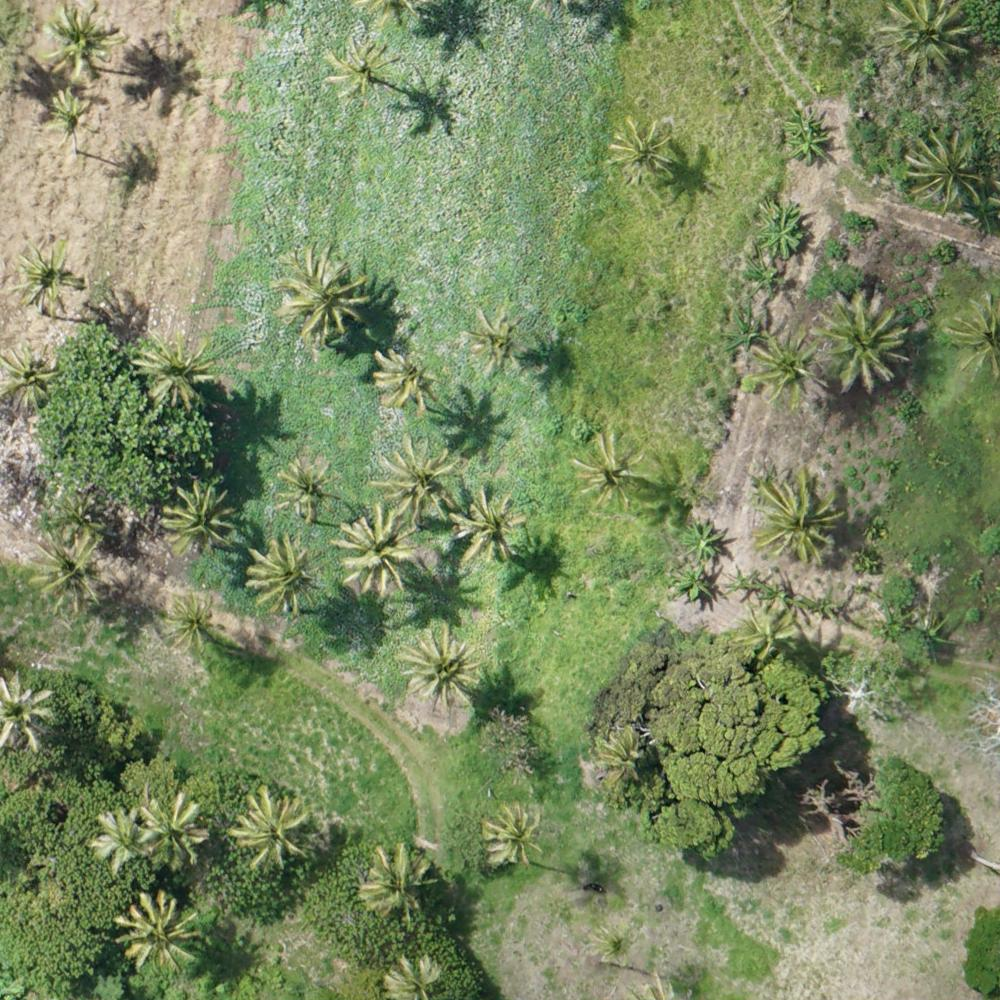Palm: (748, 469, 841, 565), (813, 295, 904, 388), (875, 1, 975, 85), (391, 625, 481, 715), (276, 250, 365, 335), (114, 891, 202, 974), (233, 784, 315, 872), (906, 125, 987, 212), (371, 433, 454, 516), (331, 514, 419, 592), (28, 527, 106, 609), (358, 843, 437, 917), (137, 330, 212, 406), (571, 431, 647, 506), (743, 328, 820, 402), (449, 488, 522, 566), (46, 1, 121, 76), (164, 477, 237, 554), (319, 36, 399, 101), (246, 539, 318, 611), (143, 796, 212, 869), (463, 302, 532, 371), (13, 241, 82, 308), (369, 344, 441, 408), (88, 802, 157, 868), (606, 118, 673, 182), (276, 451, 339, 518), (476, 802, 541, 865), (2, 344, 61, 409), (163, 590, 221, 655), (586, 723, 645, 784), (46, 83, 91, 138)
